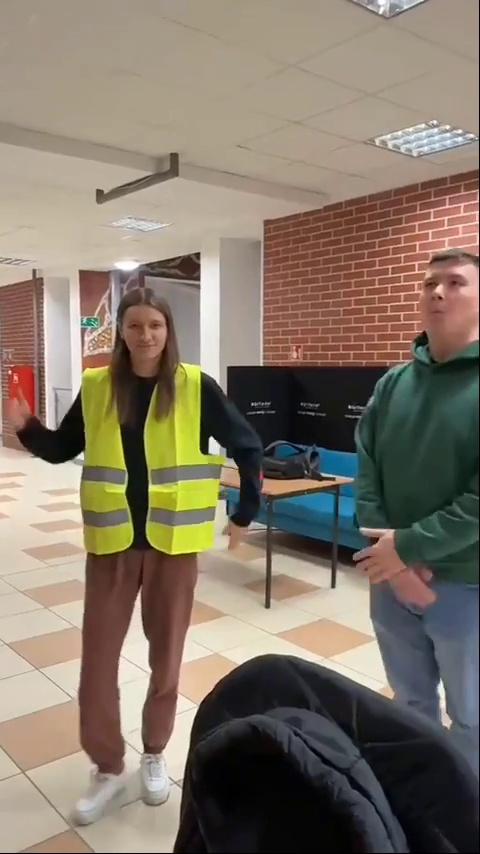no vest: (354, 250, 480, 747)
vest: (54, 288, 271, 834)
